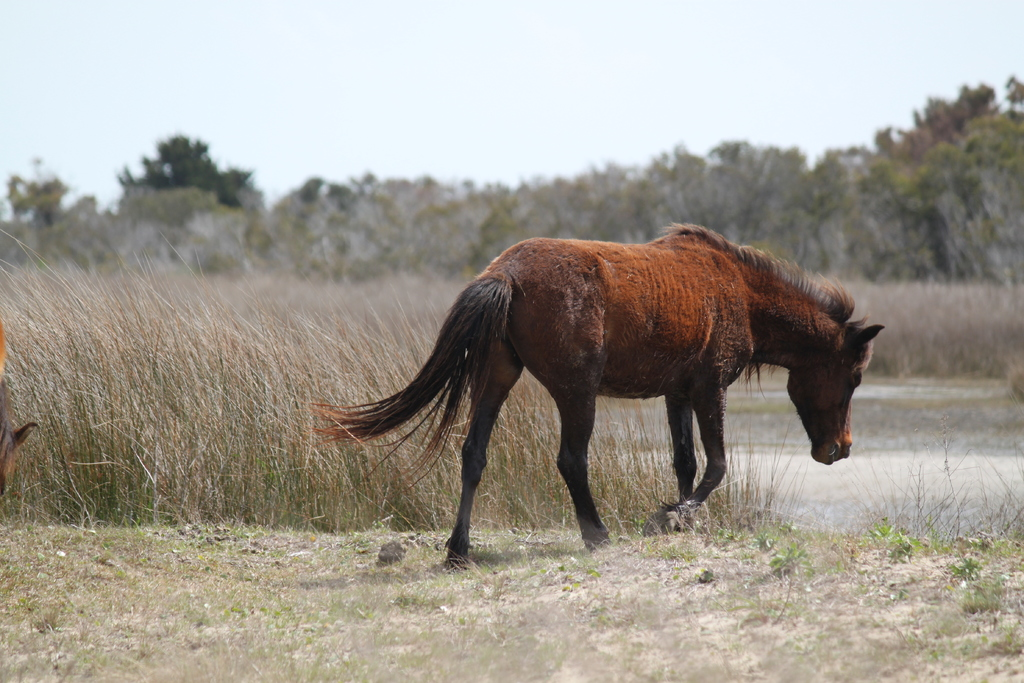horse: (320, 211, 884, 551)
